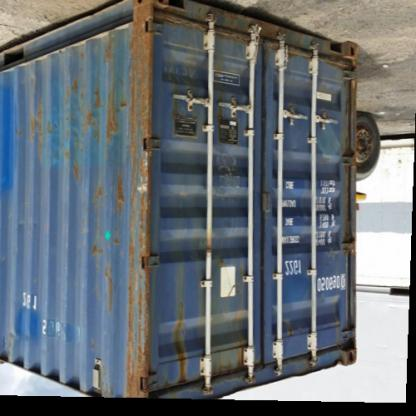Damage: (119, 18, 157, 396), (33, 79, 92, 195), (92, 54, 124, 266)
